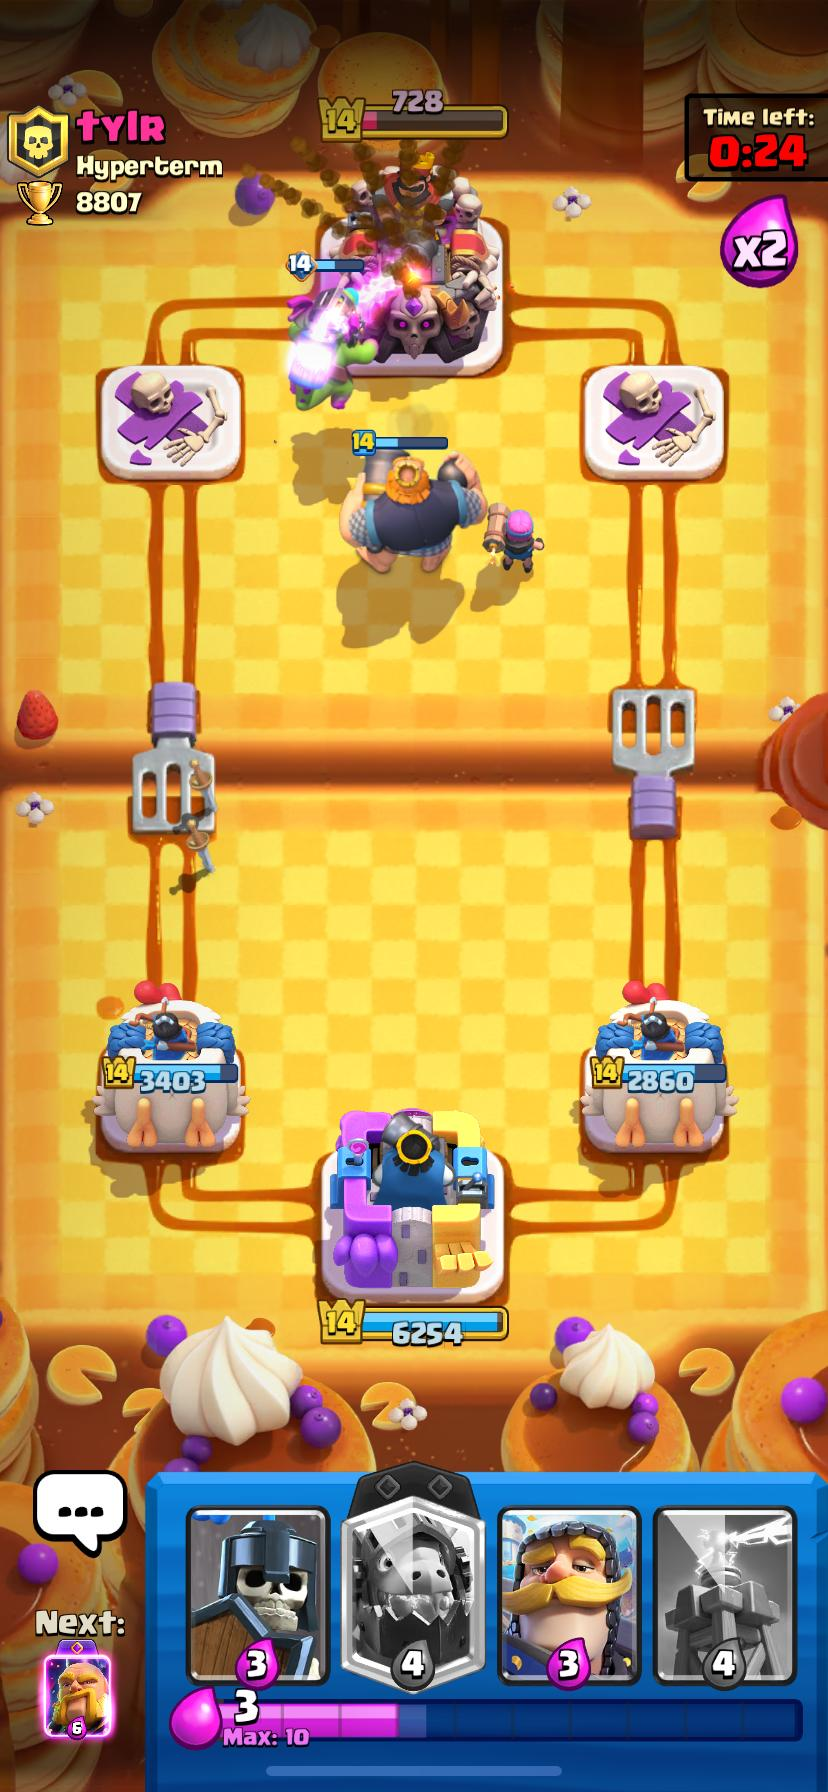EKingTower: (357, 167, 497, 363)
OEVInfernoDrag: (288, 279, 376, 410)
OFirecrack: (483, 504, 543, 574)
ORoyalG: (339, 453, 487, 573)
OwnKingTower: (321, 1109, 503, 1306)
OwnPrincessTower: (580, 982, 737, 1151), (93, 983, 248, 1152)
TowerDown: (99, 363, 241, 480), (584, 365, 723, 480)
